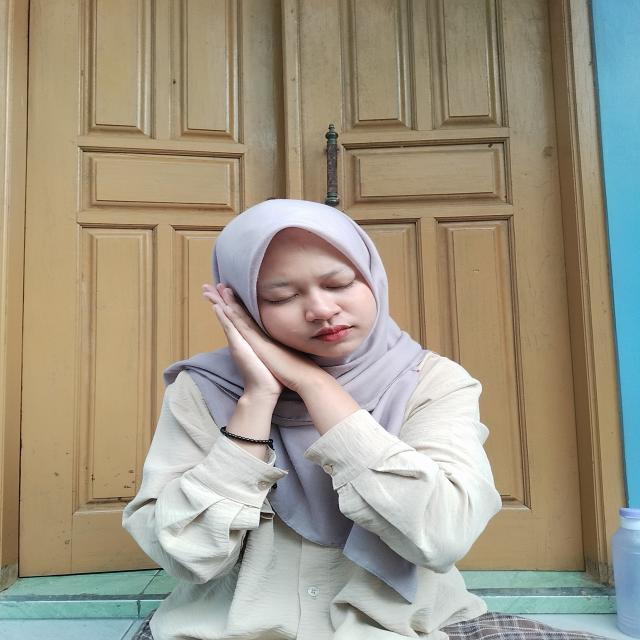tidur: (190, 281, 378, 447)
